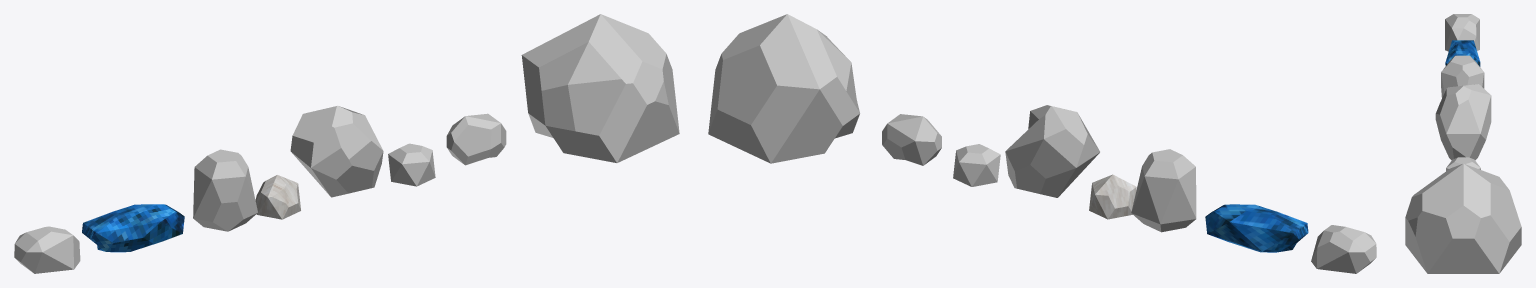
The model's file is kamni.fbx.
3 views of the same model, side by side, from view 1: azimuth 30°, elevation 25°; view 2: azimuth 150°, elevation 25°; view 3: azimuth 270°, elevation 25° (orthographic). The views are drawn at different scales.
Visible parts, largest first — view 1: Icosphere.007, Icosphere.004, Icosphere.002, Icosphere.001, Icosphere, Icosphere.006, Icosphere.005, Icosphere.003; view 2: Icosphere.007, Icosphere.004, Icosphere.002, Icosphere.001, Icosphere, Icosphere.006, Icosphere.005, Icosphere.003; view 3: Icosphere.007, Icosphere.004, Icosphere.002, Icosphere, Icosphere.001, Icosphere.005.
Part boxes in pixels (<box>): Icosphere.007: <box>521,14,679,162</box>; Icosphere.004: <box>290,105,383,197</box>; Icosphere.002: <box>193,149,257,231</box>; Icosphere.001: <box>82,204,184,252</box>; Icosphere: <box>14,226,80,273</box>; Icosphere.006: <box>446,113,506,165</box>; Icosphere.005: <box>388,143,435,186</box>; Icosphere.003: <box>255,175,300,219</box>; Icosphere.007: <box>708,14,859,163</box>; Icosphere.004: <box>1005,105,1099,197</box>; Icosphere.002: <box>1131,149,1196,232</box>; Icosphere.001: <box>1205,204,1308,252</box>; Icosphere: <box>1311,225,1376,273</box>; Icosphere.006: <box>882,114,941,165</box>; Icosphere.005: <box>953,144,1000,186</box>; Icosphere.003: <box>1089,174,1136,219</box>; Icosphere.007: <box>1405,163,1521,273</box>; Icosphere.004: <box>1435,84,1491,160</box>; Icosphere.002: <box>1441,55,1484,97</box>; Icosphere: <box>1445,14,1479,51</box>; Icosphere.001: <box>1445,40,1480,66</box>; Icosphere.005: <box>1446,157,1480,170</box>.
Bounding box in the file's own units: 9.79 × 1.73 × 1.97.
